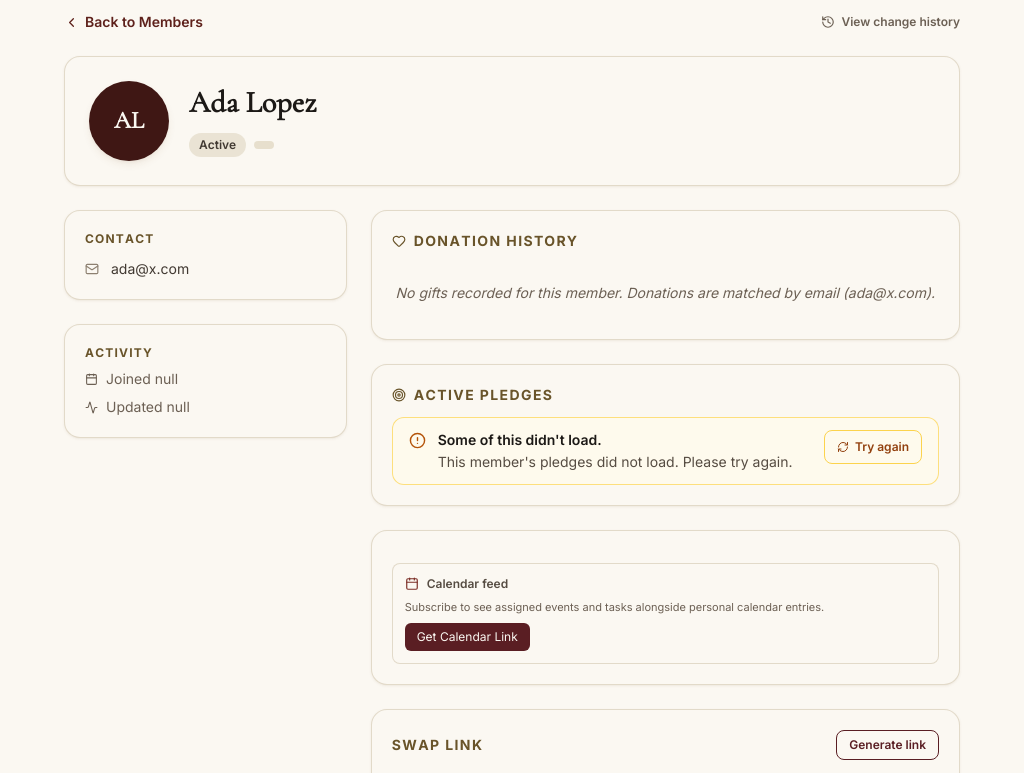
Test case: member pledges when the read did not load › retries a refused read into the member's pledge
Check: the text "This member's pledges did not load. Please try again." is shown, box [438,452,812,472]
Click the button "Try again" at (873, 447), box [824,430,922,464]
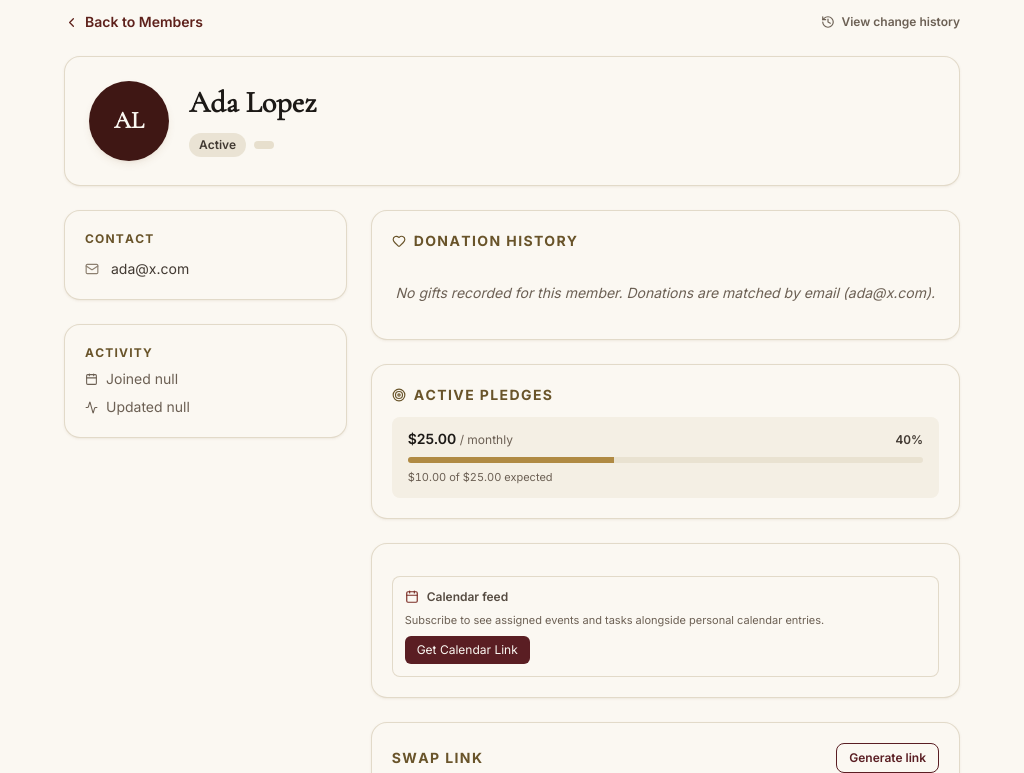
Check: the text "40%" is shown, box [895,432,923,448]
Check: the text "This member's pledges did not load. Please try again." is gone
